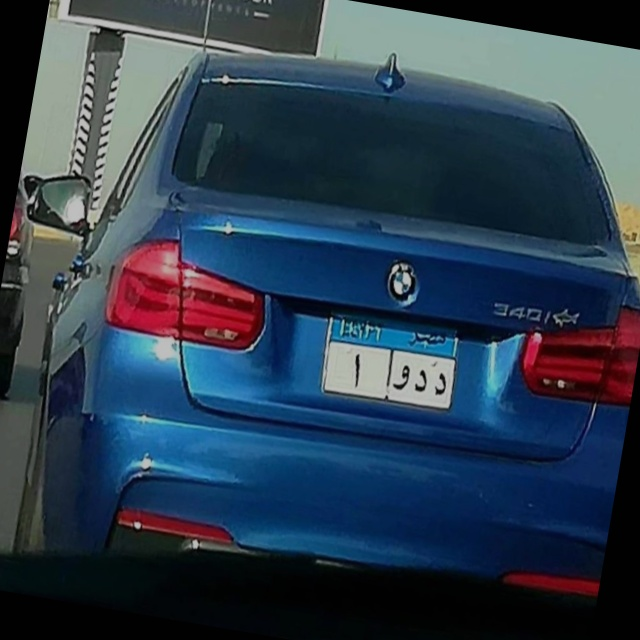License Plate: (313, 302, 470, 419)
